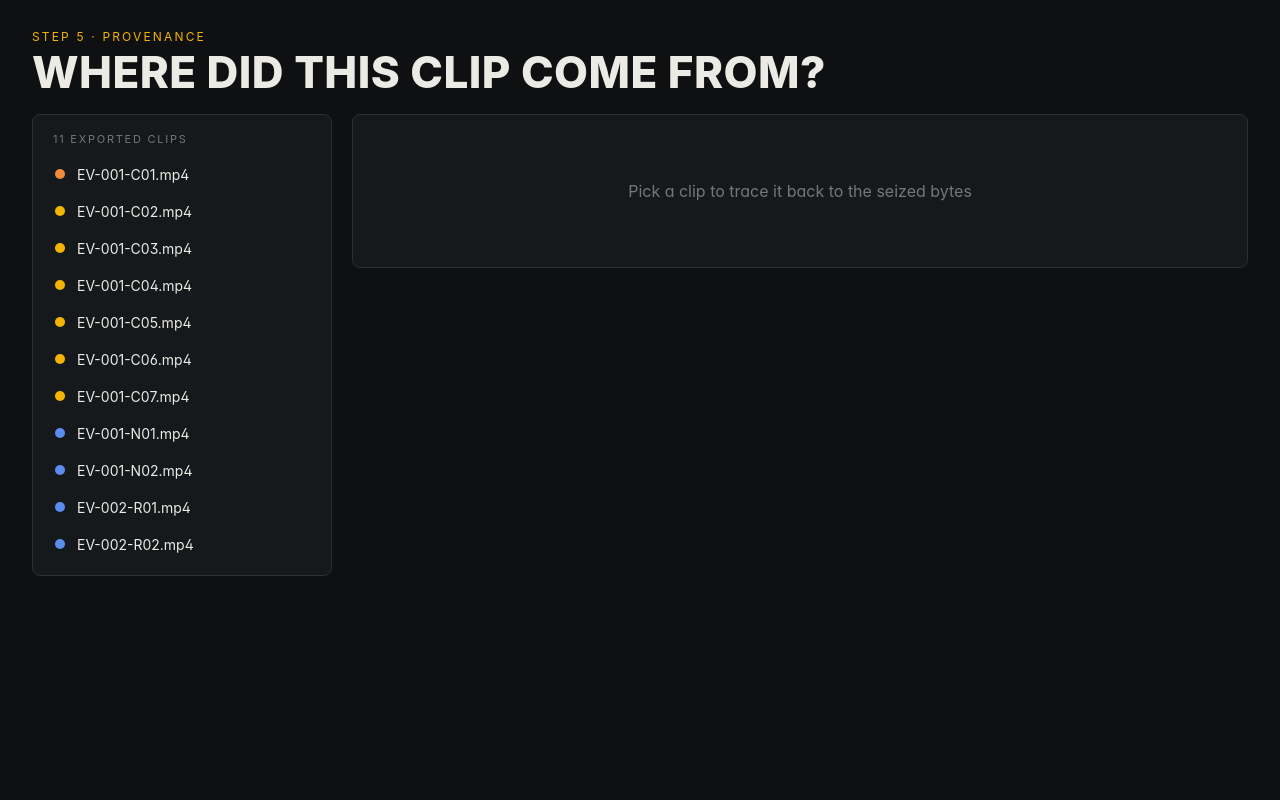
Test: Provenance › a clip that is not on this machine is reported as missing, not as changed
Step 1. Click the button "EV-001-C01.mp4" → (182, 174), box 45,156 -> 319,192
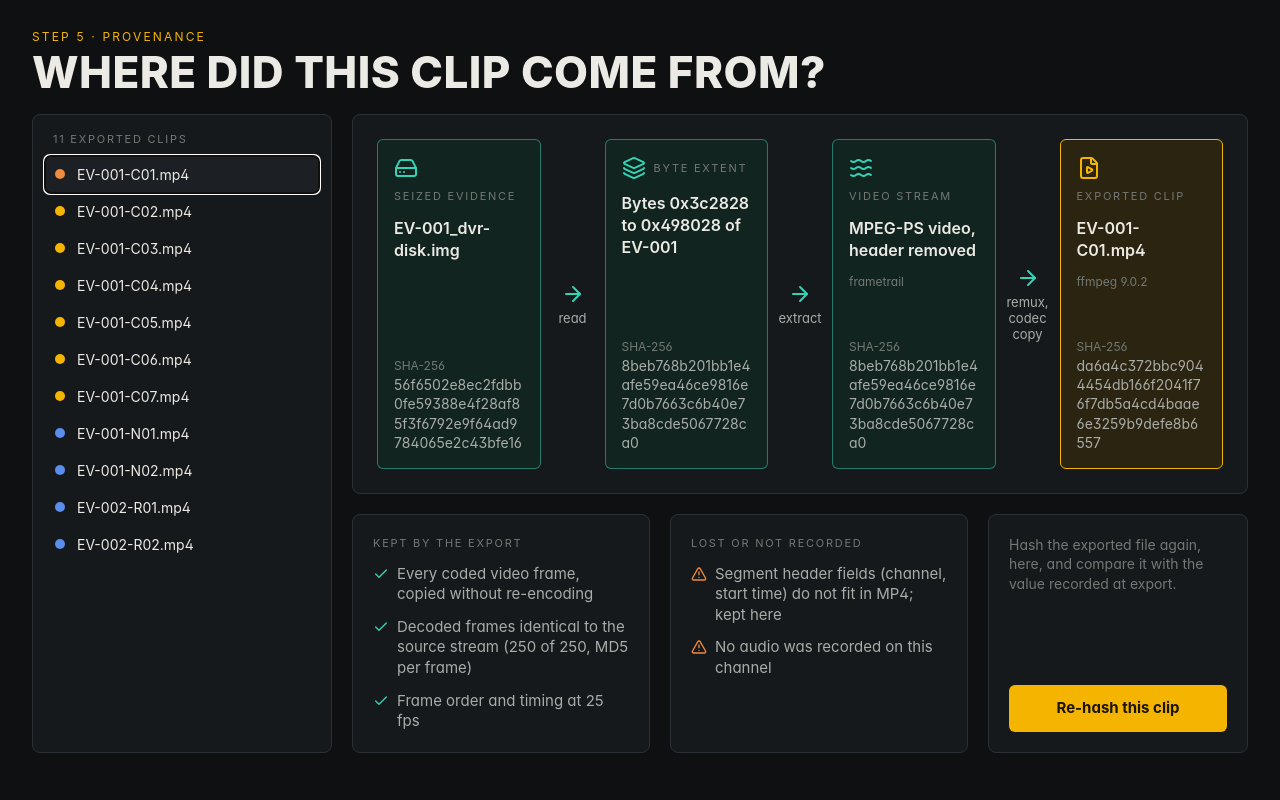
Step 2. Click the button with test id "rehash" → (1118, 709), box 1009,685 -> 1227,732
Wait 800 ms
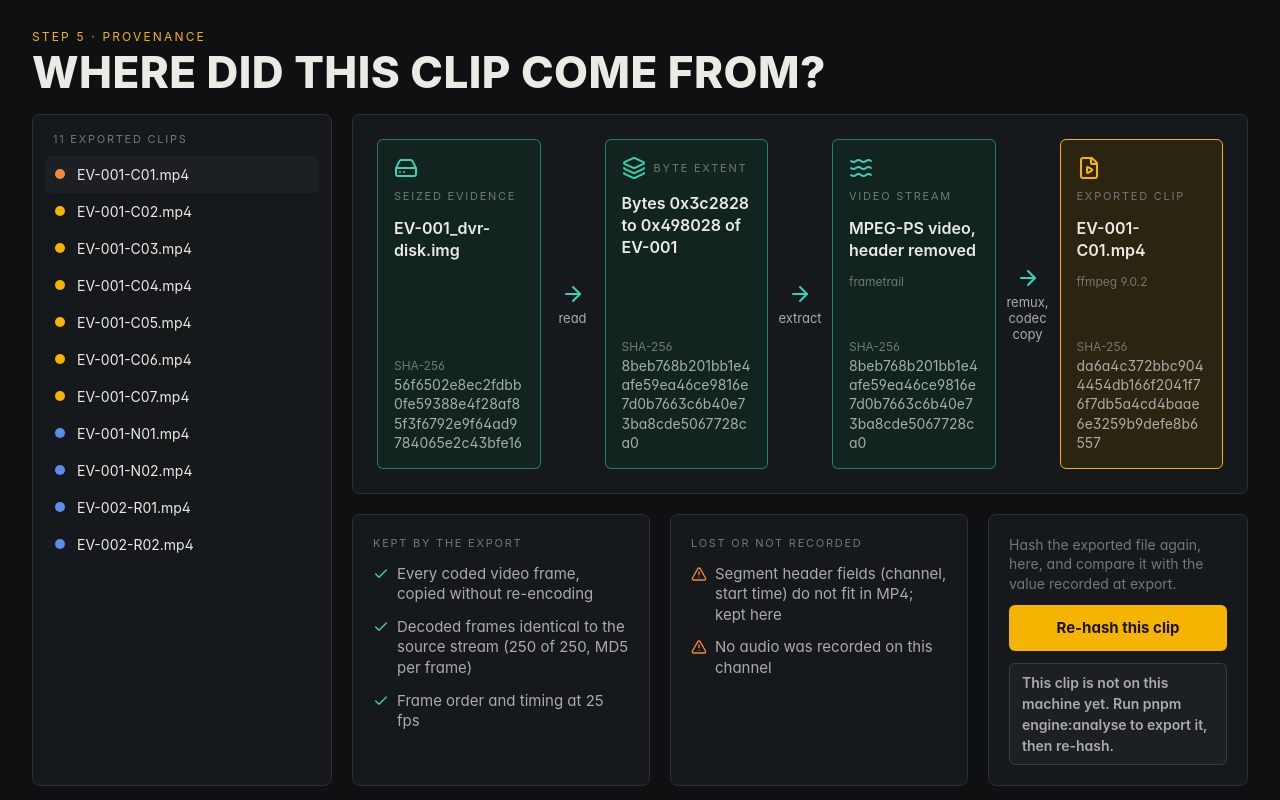
expect the text with test id "rehash-result" shows "This clip is not on this machine yet. Run pnpm engine:analyse to export it, then re-hash.": met, box 1022,674 -> 1208,754
